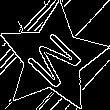M_SE: (19, 25, 86, 92)
